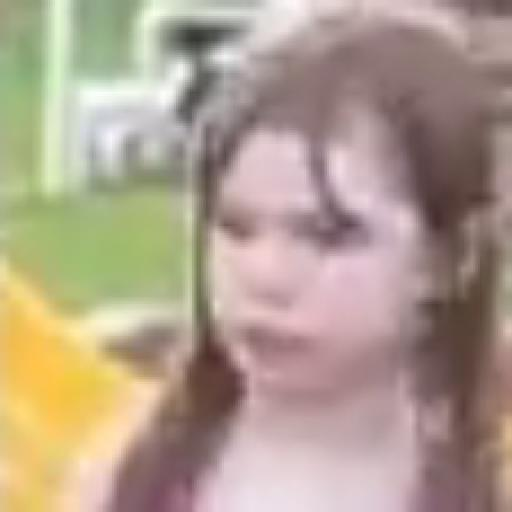Autism: (168, 43, 512, 504)
